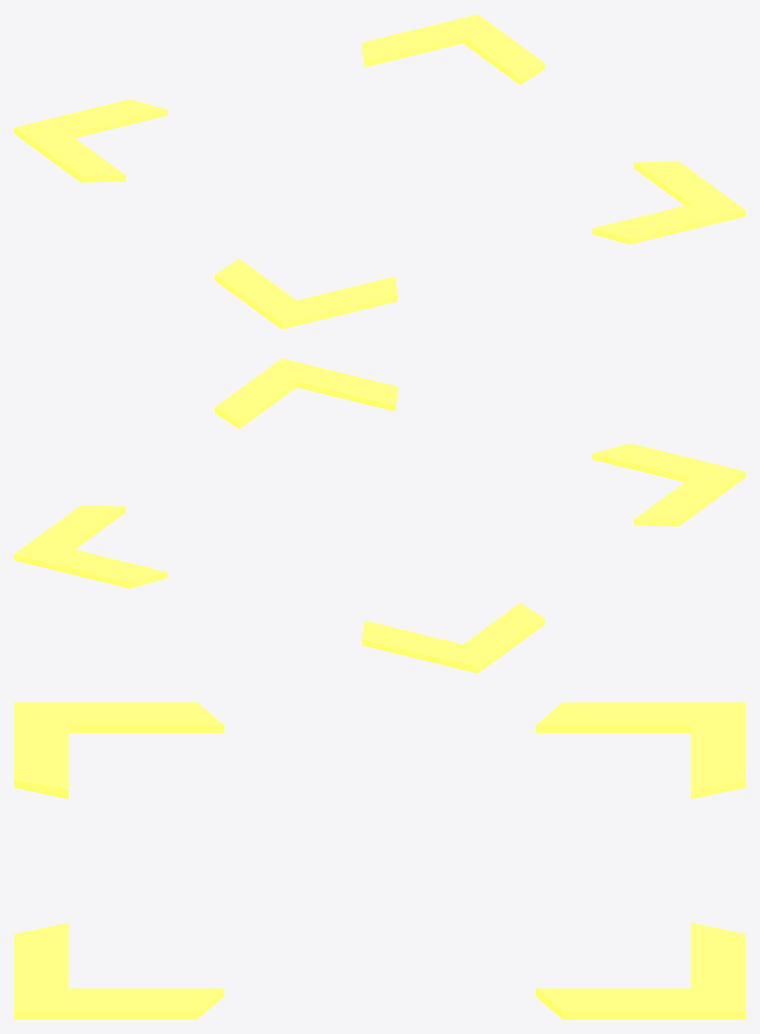
The model's file is Scan_Reticle.fbx.
3 renders of one model, top to bottom at view 1: azimuth 30°, elevation 25°; view 2: azimuth 150°, elevation 25°; view 3: azimuth 270°, elevation 25°, orthographic. The views are drawn at different scales.
Visible parts, largest first — view 1: Plane.002; view 2: Plane.002; view 3: Plane.002.
Boxes of the visible parts, box(x1,y1,x2,y2) form: Plane.002: box(14, 14, 745, 329); Plane.002: box(14, 358, 745, 673); Plane.002: box(14, 702, 745, 1019).
Size of the model in its own units: 240 by 3 by 240.
